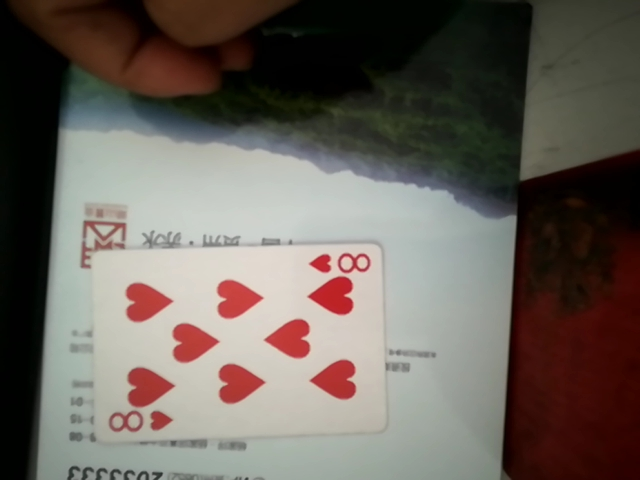hx 8: (91, 241, 387, 442)
